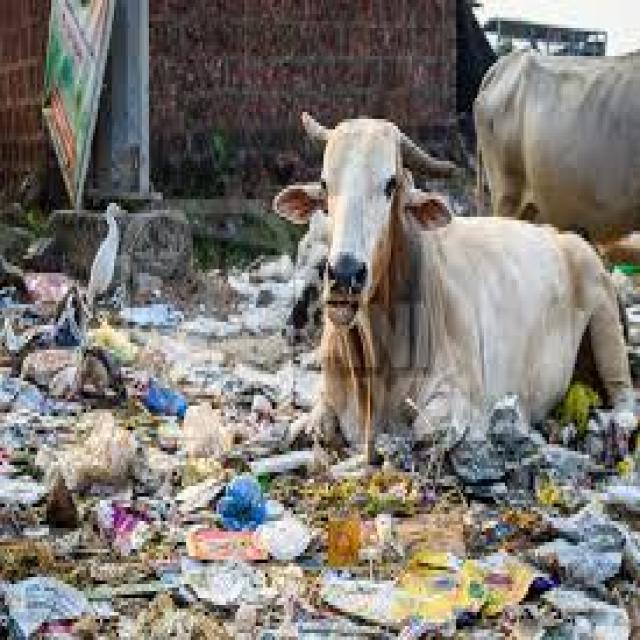garbage: (0, 238, 638, 636)
